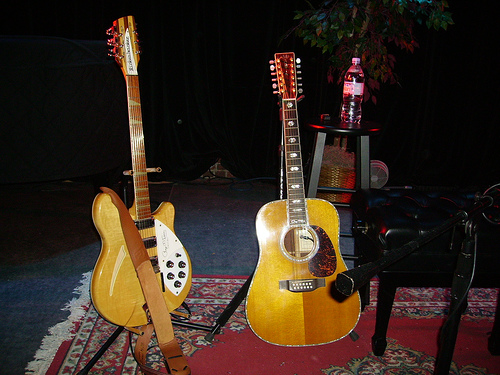guitar: (245, 53, 363, 349)
